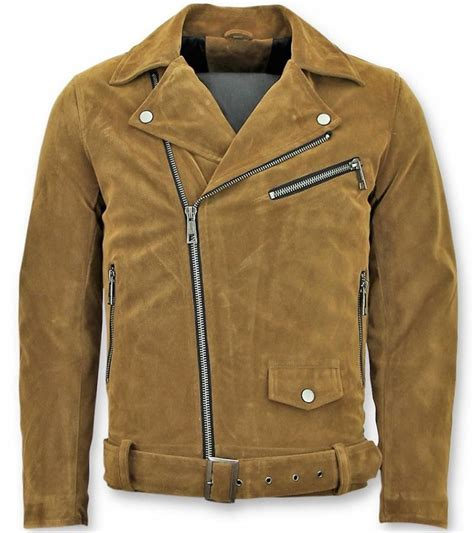gamuza: (20, 2, 459, 527)
